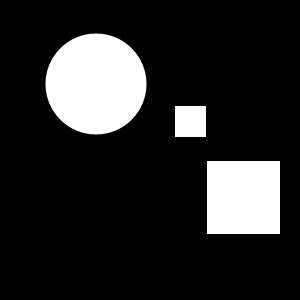circle: (207, 161, 280, 234), (175, 106, 206, 137)
rectangle: (46, 34, 146, 134)
